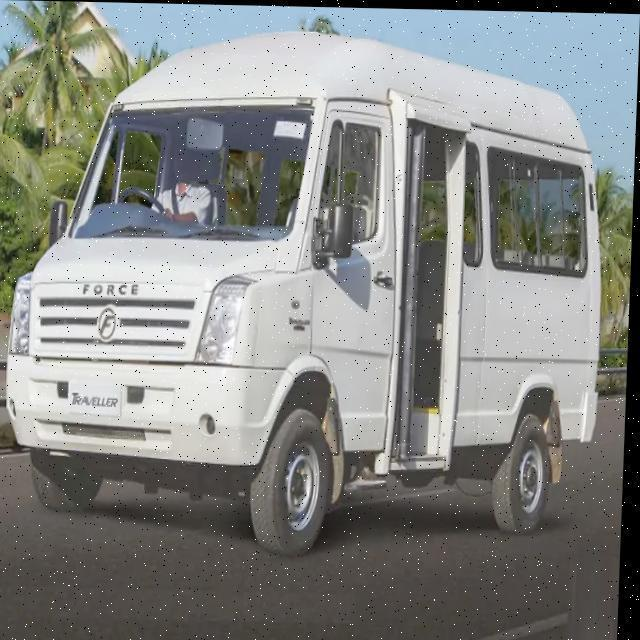Ambulance: (0, 18, 617, 566), (0, 372, 627, 640), (152, 145, 217, 229)
